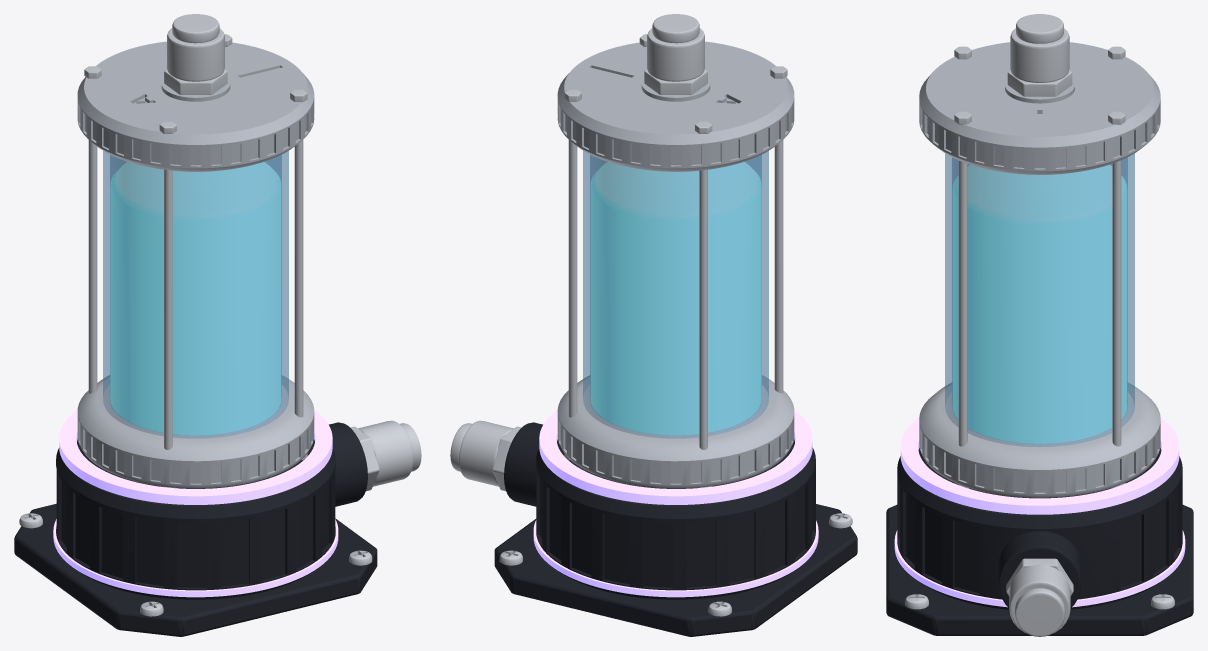
Rendered from PumpReservoir.glb.
3 renders of one model, left to right at view 1: azimuth 30°, elevation 25°; view 2: azimuth 150°, elevation 25°; view 3: azimuth 270°, elevation 25°, orthographic.
Visible parts, largest first — view 1: Glass__Glass__63B3ED, Coolant__Neon__63B3ED, PumpBody__SmoothPlastic__22252E, Caps__Metal__B8BEC8, Nickel__Metal__C9CDD4, Rgb__Neon__8B7CFF; view 2: Glass__Glass__63B3ED, Coolant__Neon__63B3ED, PumpBody__SmoothPlastic__22252E, Caps__Metal__B8BEC8, Nickel__Metal__C9CDD4, Rgb__Neon__8B7CFF; view 3: Glass__Glass__63B3ED, Coolant__Neon__63B3ED, Caps__Metal__B8BEC8, PumpBody__SmoothPlastic__22252E, Nickel__Metal__C9CDD4, Rgb__Neon__8B7CFF.
Boxes of the visible parts, left/top/right/bottom form: Glass__Glass__63B3ED: left=103, top=151, right=288, bottom=438; Coolant__Neon__63B3ED: left=110, top=162, right=281, bottom=435; PumpBody__SmoothPlastic__22252E: left=14, top=422, right=377, bottom=636; Caps__Metal__B8BEC8: left=77, top=41, right=314, bottom=488; Nickel__Metal__C9CDD4: left=19, top=14, right=421, bottom=616; Rgb__Neon__8B7CFF: left=53, top=410, right=338, bottom=597; Glass__Glass__63B3ED: left=583, top=151, right=768, bottom=438; Coolant__Neon__63B3ED: left=590, top=162, right=761, bottom=435; PumpBody__SmoothPlastic__22252E: left=494, top=422, right=857, bottom=636; Caps__Metal__B8BEC8: left=557, top=41, right=794, bottom=488; Nickel__Metal__C9CDD4: left=450, top=14, right=852, bottom=616; Rgb__Neon__8B7CFF: left=533, top=410, right=818, bottom=597; Glass__Glass__63B3ED: left=945, top=153, right=1134, bottom=446; Coolant__Neon__63B3ED: left=952, top=165, right=1127, bottom=443; Caps__Metal__B8BEC8: left=919, top=42, right=1160, bottom=497; PumpBody__SmoothPlastic__22252E: left=886, top=447, right=1193, bottom=635; Nickel__Metal__C9CDD4: left=905, top=14, right=1174, bottom=636; Rgb__Neon__8B7CFF: left=894, top=417, right=1185, bottom=607.
Bounding box in the file's own units: 18.5 × 27.6 × 14.
